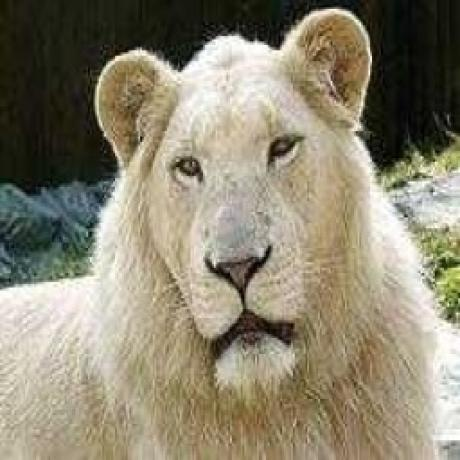Lion: (0, 8, 444, 459)
